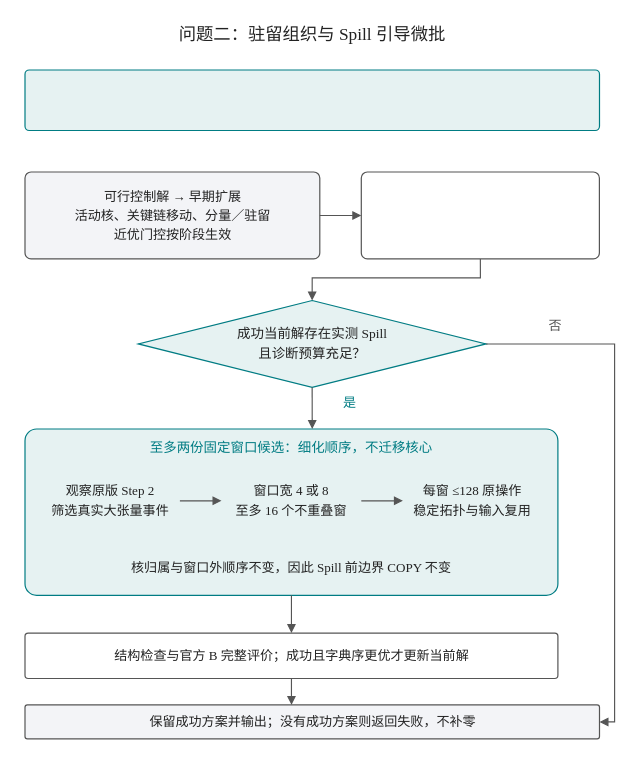
This 640x757 diagram has some shape labels left out. The shapes that lost their labels are listed below. From the top down, each one's box as (x1, y1, x2, y2) in pixels, then its label:
(24, 69, 600, 131): 同核全部子图合成一个 Task；跨核仍生成 COPY 对 单生产者的 b 字节非最终输出张量： r 个远端消费核产生 2 rb 边界量
(360, 171, 600, 259): 区间索引插入 不被早期近优门控一并跳过 每份候选都经官方评价
